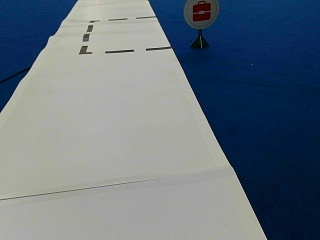company: (183, 0, 219, 28)
